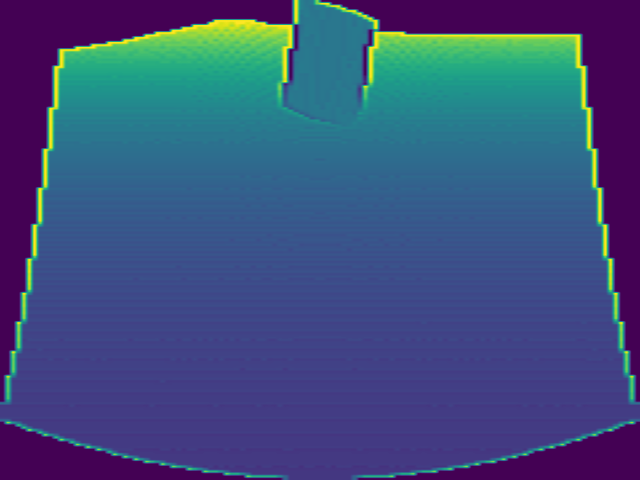cylinder: (276, 1, 376, 124)
